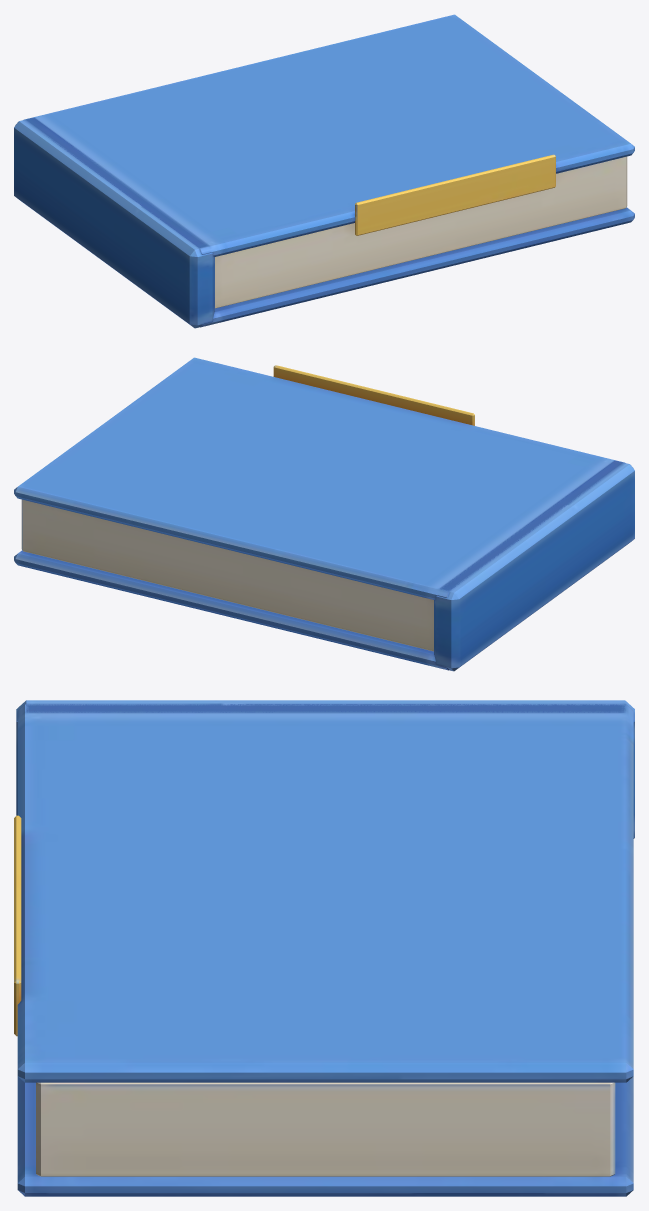
File: toy_book_blue.glb
3 renders of one model, top to bottom at view 1: azimuth 30°, elevation 25°; view 2: azimuth 150°, elevation 25°; view 3: azimuth 270°, elevation 25°, orthographic. The views are drawn at different scales.
Visible parts, largest first — view 1: prop; view 2: prop; view 3: prop.
Boxes of the visible parts, bbox=[...] form: prop: bbox=[14, 14, 634, 328]; prop: bbox=[14, 357, 634, 671]; prop: bbox=[14, 700, 634, 1196].
Size of the model in its own units: 7.1 by 1.35 by 5.04.
Materials: 1 (1 with a texture image).
